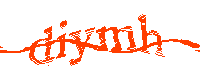d: (29, 26, 54, 66)
h: (137, 12, 165, 58)
i: (55, 18, 69, 61)
m: (96, 26, 137, 55)
y: (67, 27, 95, 70)
